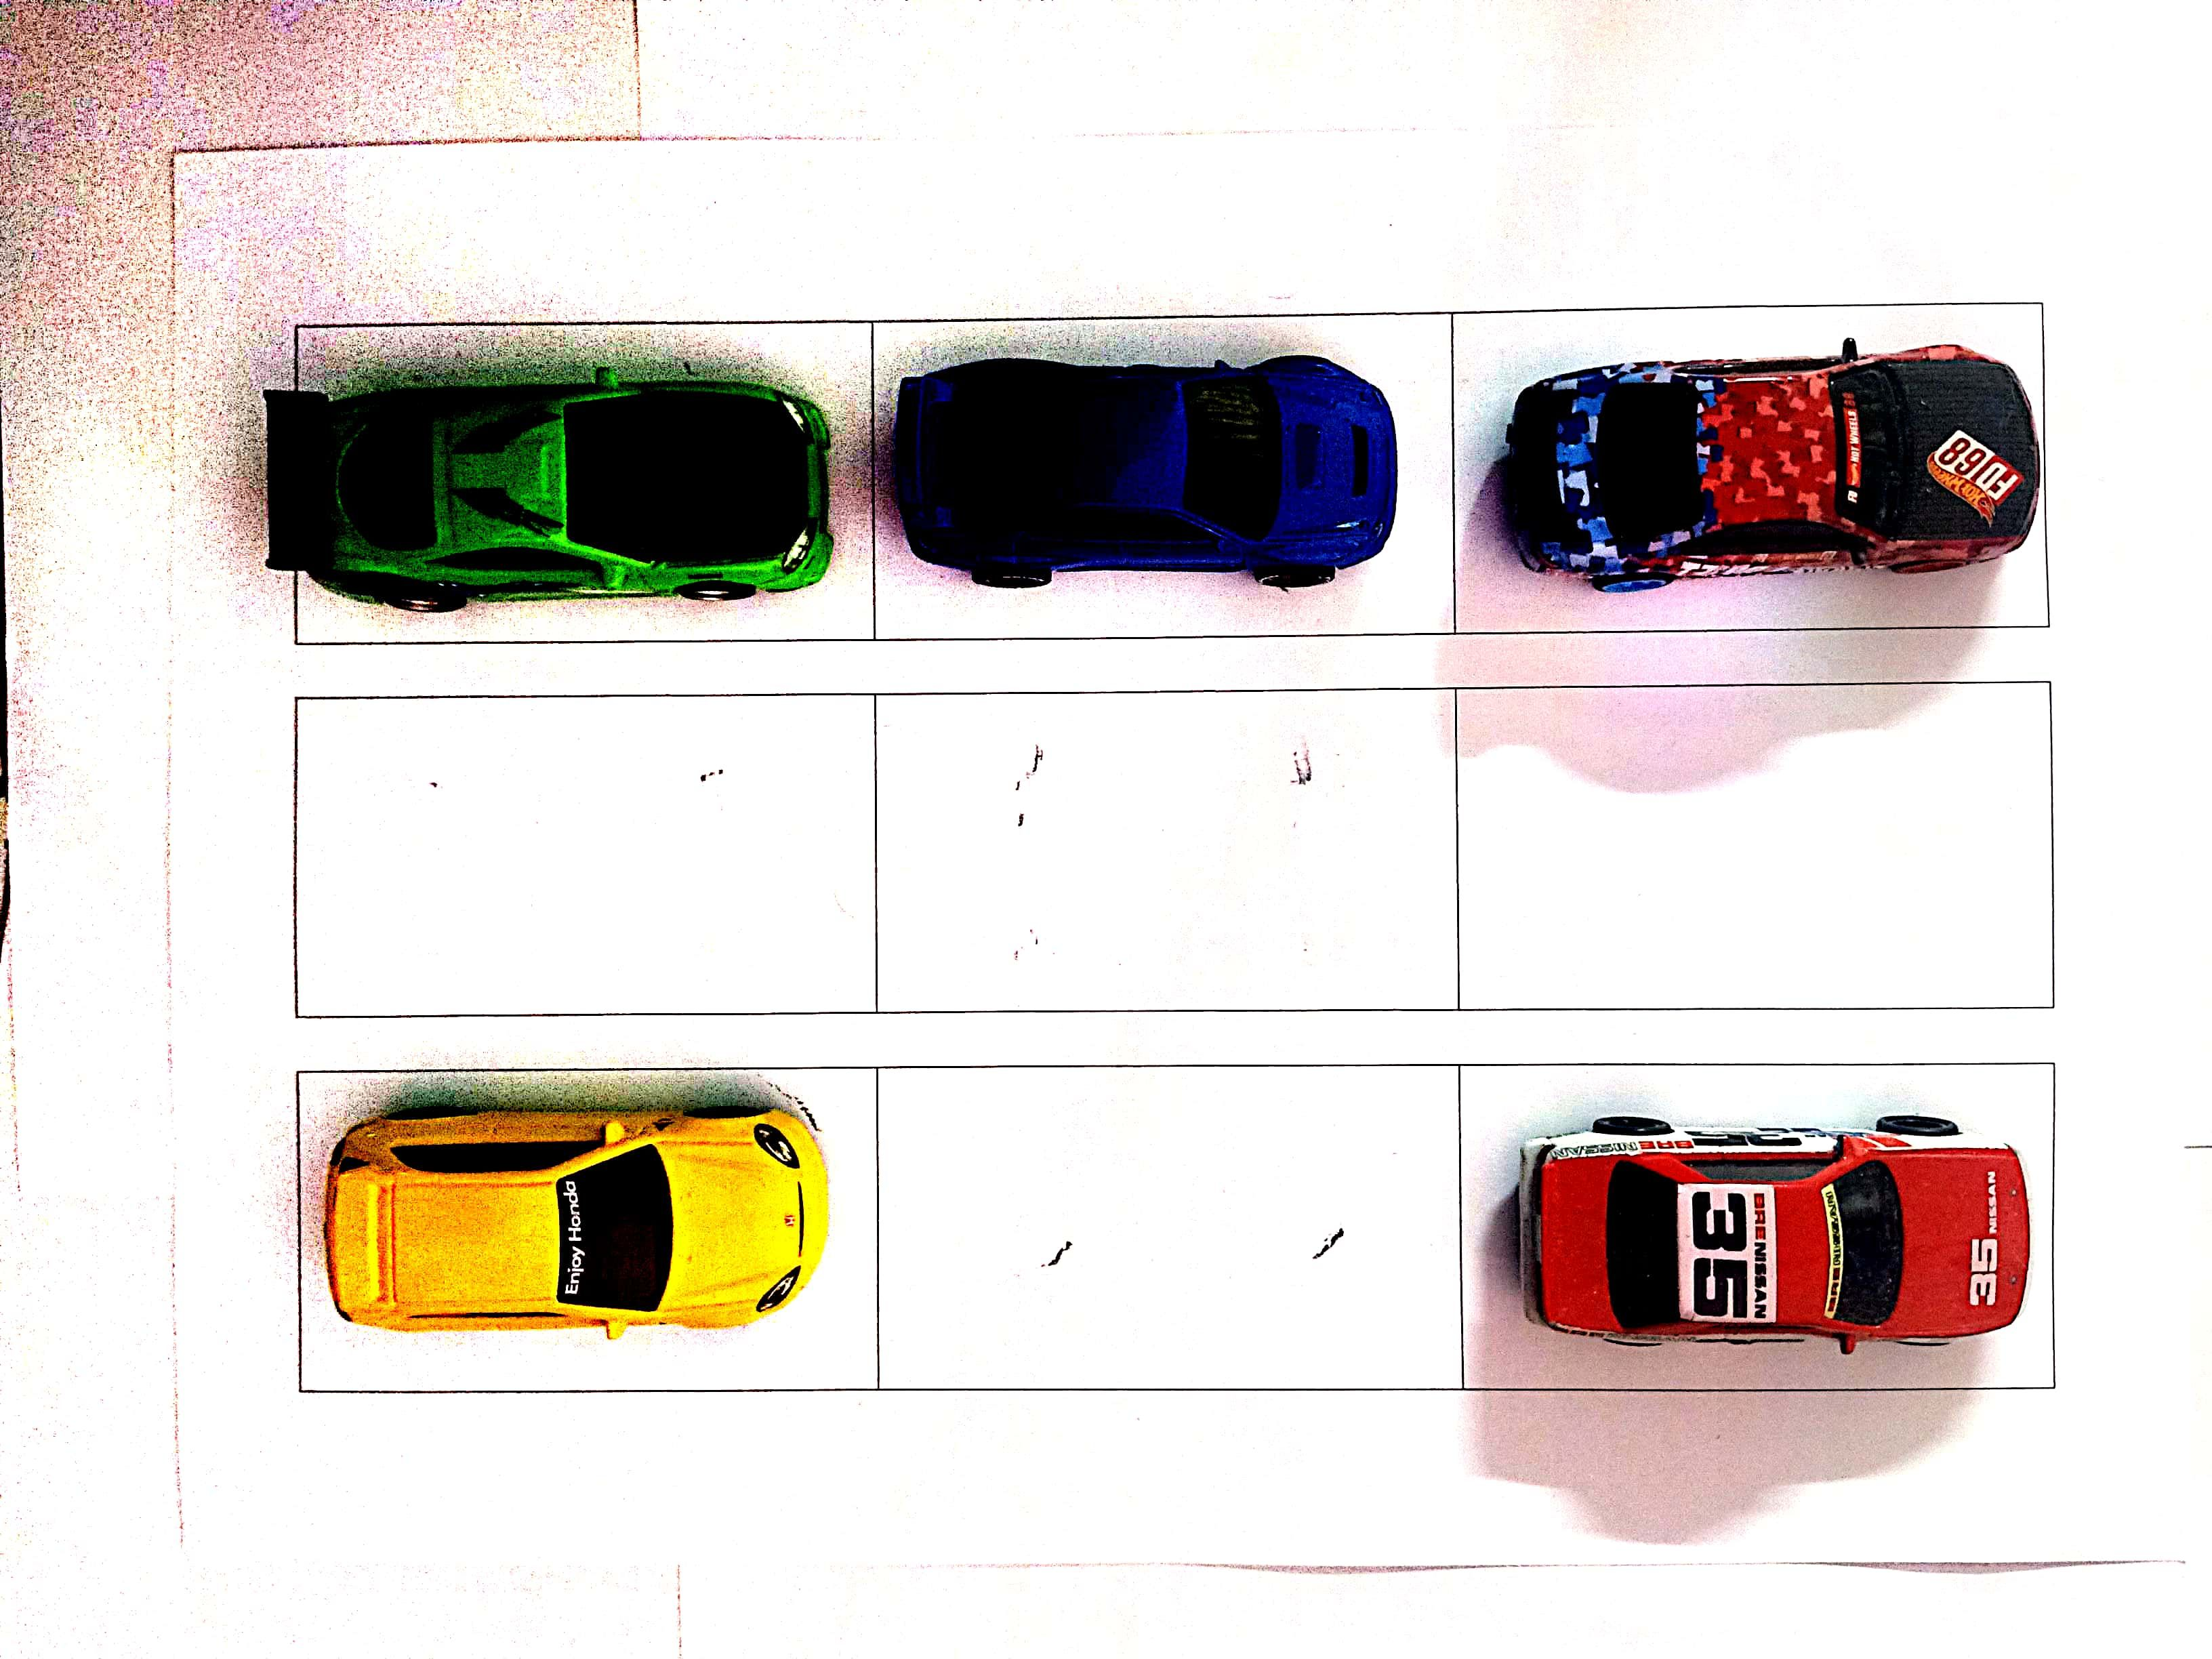Busy: (1463, 1066, 2047, 1396), (300, 1075, 880, 1396), (1454, 310, 2034, 627), (874, 319, 1446, 633), (303, 322, 866, 640)
Free: (1458, 680, 2059, 1002), (874, 1061, 1454, 1384), (296, 701, 874, 1009), (880, 697, 1454, 1006)
